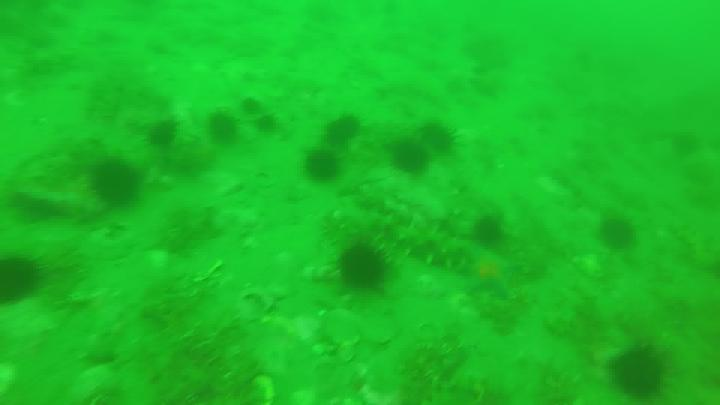echinus: (610, 346, 669, 399), (87, 159, 139, 207), (340, 244, 392, 291), (1, 260, 40, 305), (323, 118, 363, 154), (599, 218, 639, 251), (394, 142, 428, 174), (306, 146, 338, 179), (424, 122, 456, 154), (153, 118, 177, 148), (213, 114, 238, 142), (476, 218, 501, 244), (258, 114, 280, 131)
holothurian: (390, 220, 473, 273)
scallop: (320, 312, 394, 346), (230, 285, 278, 318), (140, 250, 177, 274), (249, 378, 277, 405), (286, 315, 316, 340)
starfish: (465, 245, 518, 299)
